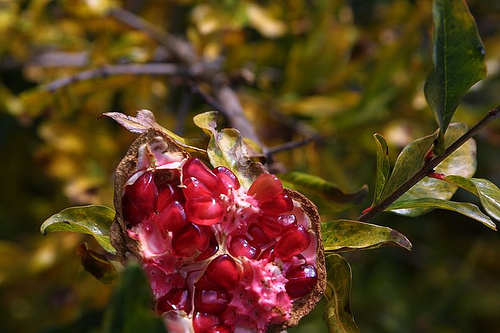pomogranate: (118, 158, 324, 332)
